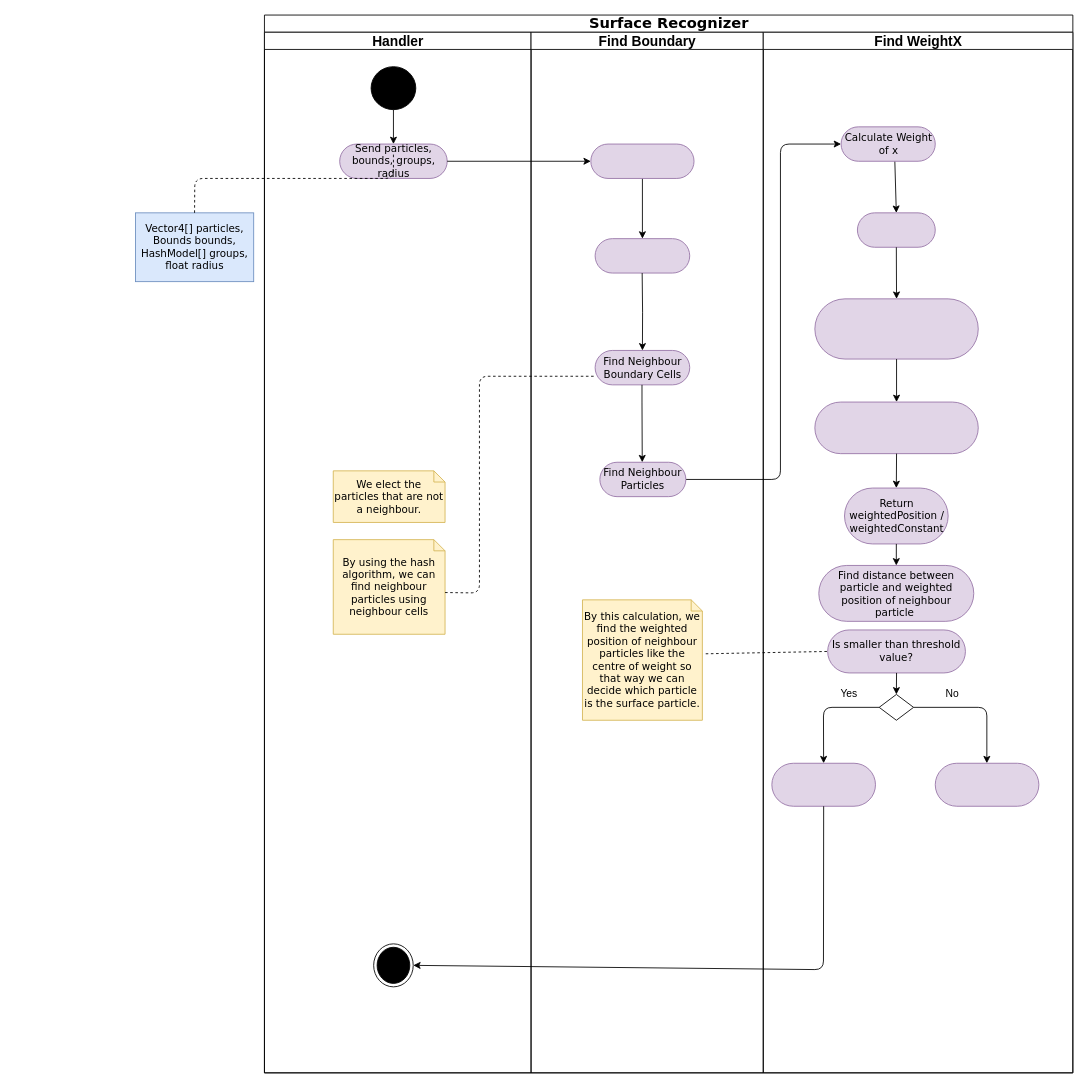
The diagram is 1088 pixels wide and 1091 high, and some of its shapes have lost their labels. The shapes that lost their labels are listed below. From the top down, each one's box as (x1, y1, x2, y2) in pixels, then its label:
(590, 143, 694, 178): Set Data
(857, 212, 935, 247): For every neighbour particles:
(594, 238, 690, 273): For every particle
(814, 298, 978, 359): Weighted Position += Particles * Find Kernel(distance / search Radius)
(814, 401, 978, 454): WeightedConstant += findKernel(distance / searchRadius)
(771, 762, 875, 806): Add list as surface particle
(934, 762, 1039, 806): Do Nothing
